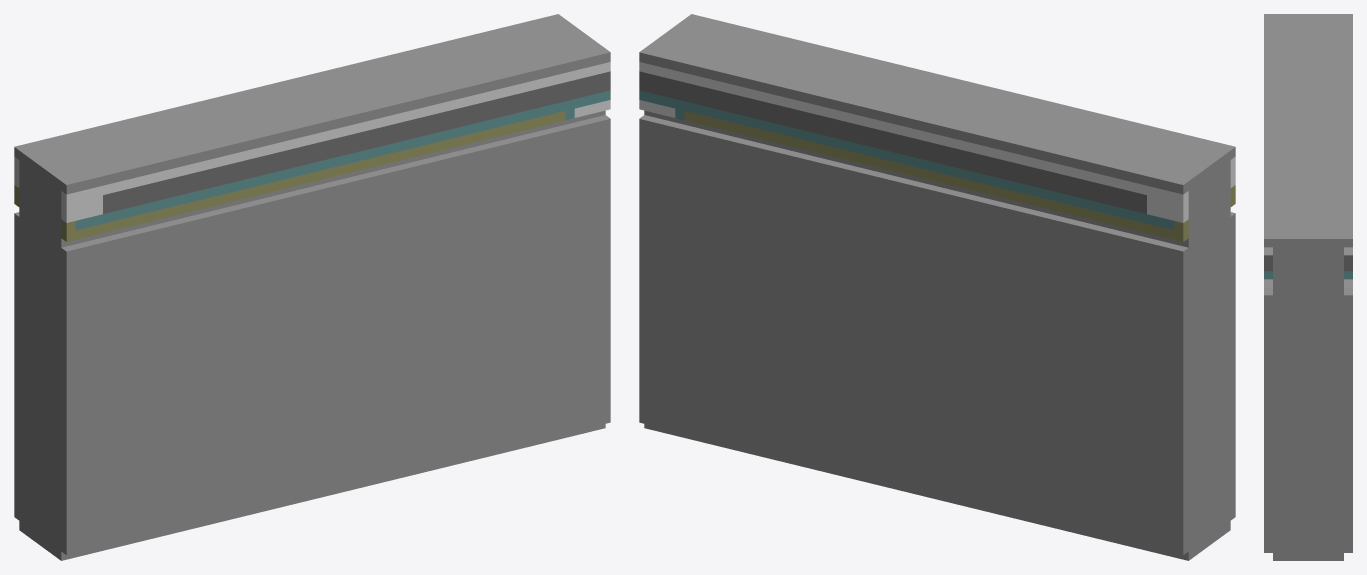
File: Conference Room Wall 6.obj
3 views of the same model, side by side, from view 1: azimuth 30°, elevation 25°; view 2: azimuth 150°, elevation 25°; view 3: azimuth 270°, elevation 25° (orthographic). The views are drawn at different scales.
Bounding box in the file's own units: 60 × 40 × 10.
1 material, 1 textured.
